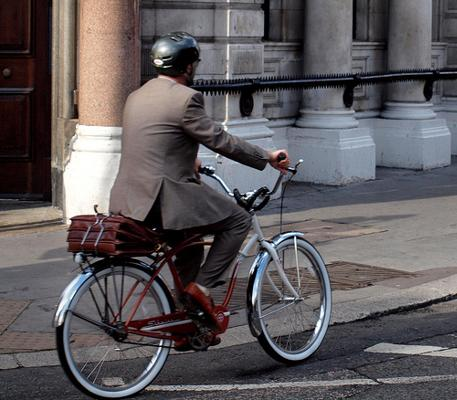person: (109, 34, 290, 345)
